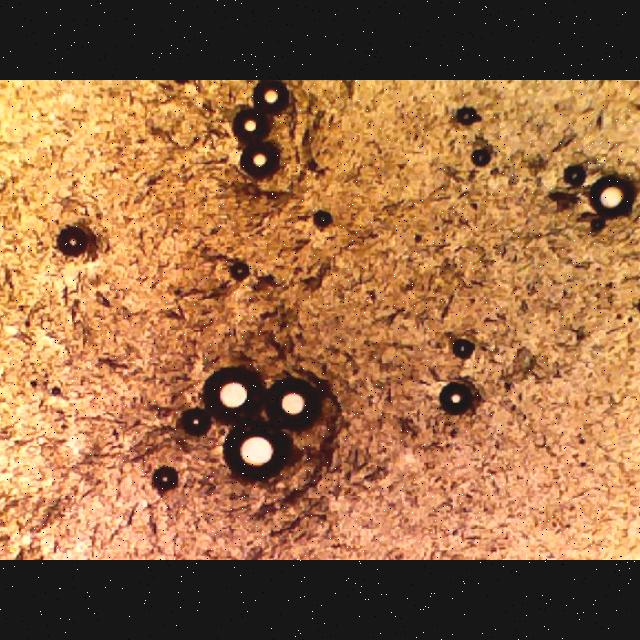microbeads: (215, 424, 289, 486), (201, 367, 271, 429), (267, 371, 329, 435), (235, 143, 283, 187), (434, 380, 481, 420), (250, 80, 300, 116), (594, 180, 634, 216), (227, 109, 271, 139), (51, 223, 87, 259), (178, 410, 212, 440), (560, 160, 588, 193), (150, 466, 182, 494), (450, 333, 474, 365), (470, 144, 494, 168), (456, 104, 478, 130), (228, 260, 252, 282), (311, 211, 333, 229)
